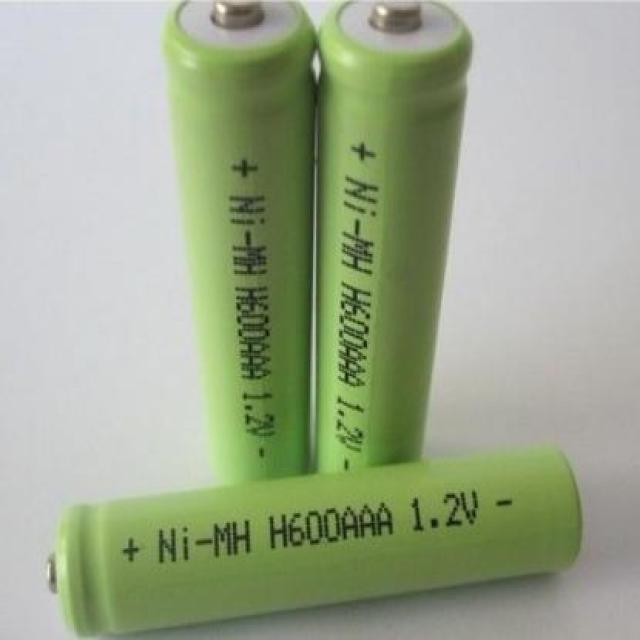-Recyclables - plastic bottle-: (46, 456, 580, 630), (170, 0, 314, 476), (324, 0, 465, 460)
